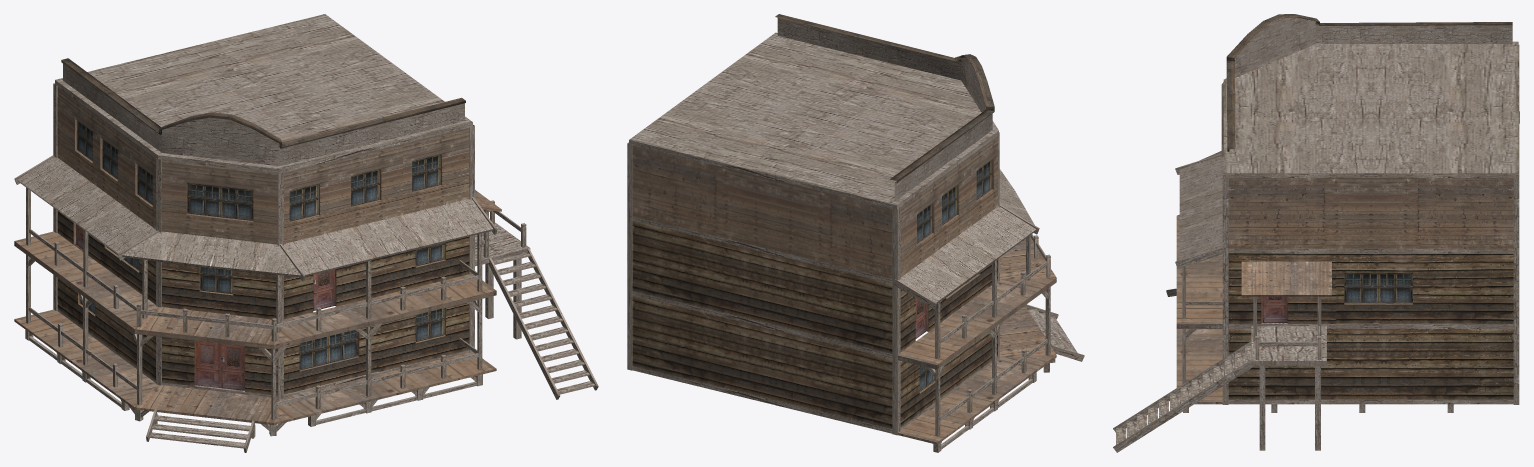
File: western_bar_-_mobile_game-ready.glb
3 renders of one model, left to right at view 1: azimuth 30°, elevation 25°; view 2: azimuth 150°, elevation 25°; view 3: azimuth 270°, elevation 25°, orthographic.
Parts seen in each view (by area): view 1: Box223_Material #30_0, Box219_Material #30_0, Object067_Material #30_0, Box158_Material #30_0, Object058_Material #30_0, Box220_Material #30_0, Box222_Material #30_0, Object052_Material #30_0, Object049_Material #30_0, Object042_Material #30_0, Object053_Material #30_0, Box221_Material #30_0 (+27 smaller); view 2: Box223_Material #30_0, Object063_Material #30_0, Object065_Material #30_0, Object060_Material #30_0, Object067_Material #30_0, Box158_Material #30_0, Box219_Material #30_0, Box222_Material #30_0, Object056_Material #30_0, Object055_Material #30_0, Object045_Material #30_0, Box309_Material #30_0 (+10 smaller); view 3: Box223_Material #30_0, Object064_Material #30_0, Object059_Material #30_0, Object062_Material #30_0, Object067_Material #30_0, Object061_Material #30_0, Box220_Material #30_0, Box248_Material #30_0, Box219_Material #30_0, Box239_Material #30_0, Box158_Material #30_0, Box218_Material #30_0 (+8 smaller).
Part boxes in pixels (left/top/right/bottom): Box223_Material #30_0: left=55, top=14, right=472, bottom=173; Box219_Material #30_0: left=14, top=231, right=496, bottom=349; Object067_Material #30_0: left=61, top=58, right=465, bottom=166; Box158_Material #30_0: left=14, top=309, right=496, bottom=425; Object058_Material #30_0: left=162, top=160, right=277, bottom=244; Box220_Material #30_0: left=283, top=199, right=493, bottom=276; Box222_Material #30_0: left=17, top=156, right=155, bottom=254; Object052_Material #30_0: left=328, top=144, right=402, bottom=232; Object049_Material #30_0: left=162, top=262, right=275, bottom=319; Object042_Material #30_0: left=162, top=337, right=277, bottom=395; Object053_Material #30_0: left=403, top=128, right=469, bottom=214; Box221_Material #30_0: left=121, top=231, right=300, bottom=277; Box223_Material #30_0: left=629, top=32, right=998, bottom=209; Object063_Material #30_0: left=632, top=220, right=892, bottom=353; Object065_Material #30_0: left=632, top=145, right=892, bottom=278; Object060_Material #30_0: left=632, top=295, right=892, bottom=428; Object067_Material #30_0: left=775, top=14, right=994, bottom=201; Box158_Material #30_0: left=898, top=306, right=1056, bottom=444; Box219_Material #30_0: left=898, top=238, right=1056, bottom=369; Box222_Material #30_0: left=899, top=206, right=1036, bottom=303; Object056_Material #30_0: left=900, top=180, right=938, bottom=276; Object055_Material #30_0: left=938, top=156, right=971, bottom=249; Object045_Material #30_0: left=900, top=353, right=960, bottom=426; Box309_Material #30_0: left=892, top=207, right=900, bottom=435; Box223_Material #30_0: left=1223, top=41, right=1518, bottom=177; Object064_Material #30_0: left=1228, top=178, right=1513, bottom=248; Object059_Material #30_0: left=1228, top=329, right=1513, bottom=399; Object062_Material #30_0: left=1336, top=253, right=1513, bottom=323; Object067_Material #30_0: left=1226, top=14, right=1512, bottom=151; Object061_Material #30_0: left=1228, top=253, right=1336, bottom=323; Box220_Material #30_0: left=1179, top=156, right=1223, bottom=259; Box248_Material #30_0: left=1241, top=261, right=1331, bottom=296; Box219_Material #30_0: left=1176, top=214, right=1222, bottom=328; Box239_Material #30_0: left=1251, top=326, right=1326, bottom=365; Box158_Material #30_0: left=1176, top=329, right=1222, bottom=404; Box218_Material #30_0: left=1228, top=248, right=1513, bottom=253.
Bounding box in the file's own units: 16.04 × 11.48 × 14.49.
Materials: 1 (1 with a texture image).
